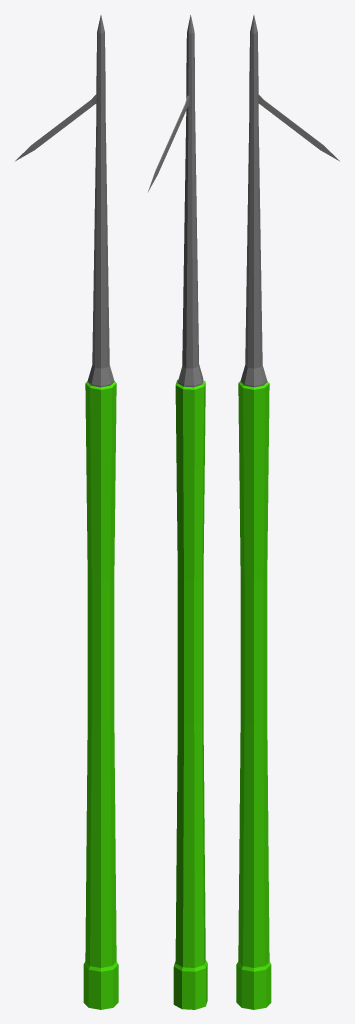
The model's file is FishingSpearV2.fbx.
3 views of the same model, side by side, from view 1: azimuth 90°, elevation 25°; view 2: azimuth 150°, elevation 25°; view 3: azimuth 270°, elevation 25° (orthographic).
Visible parts, largest first — view 1: Cylinder; view 2: Cylinder; view 3: Cylinder.
Boxes of the visible parts, bbox=[...] form: Cylinder: bbox=[15, 15, 118, 1009]; Cylinder: bbox=[148, 15, 207, 1009]; Cylinder: bbox=[236, 15, 339, 1009].
Size of the model in its own units: 2 by 62.43 by 5.95.
